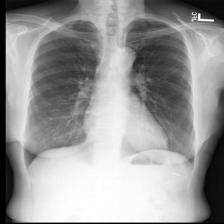normal: (20, 18, 201, 182)
